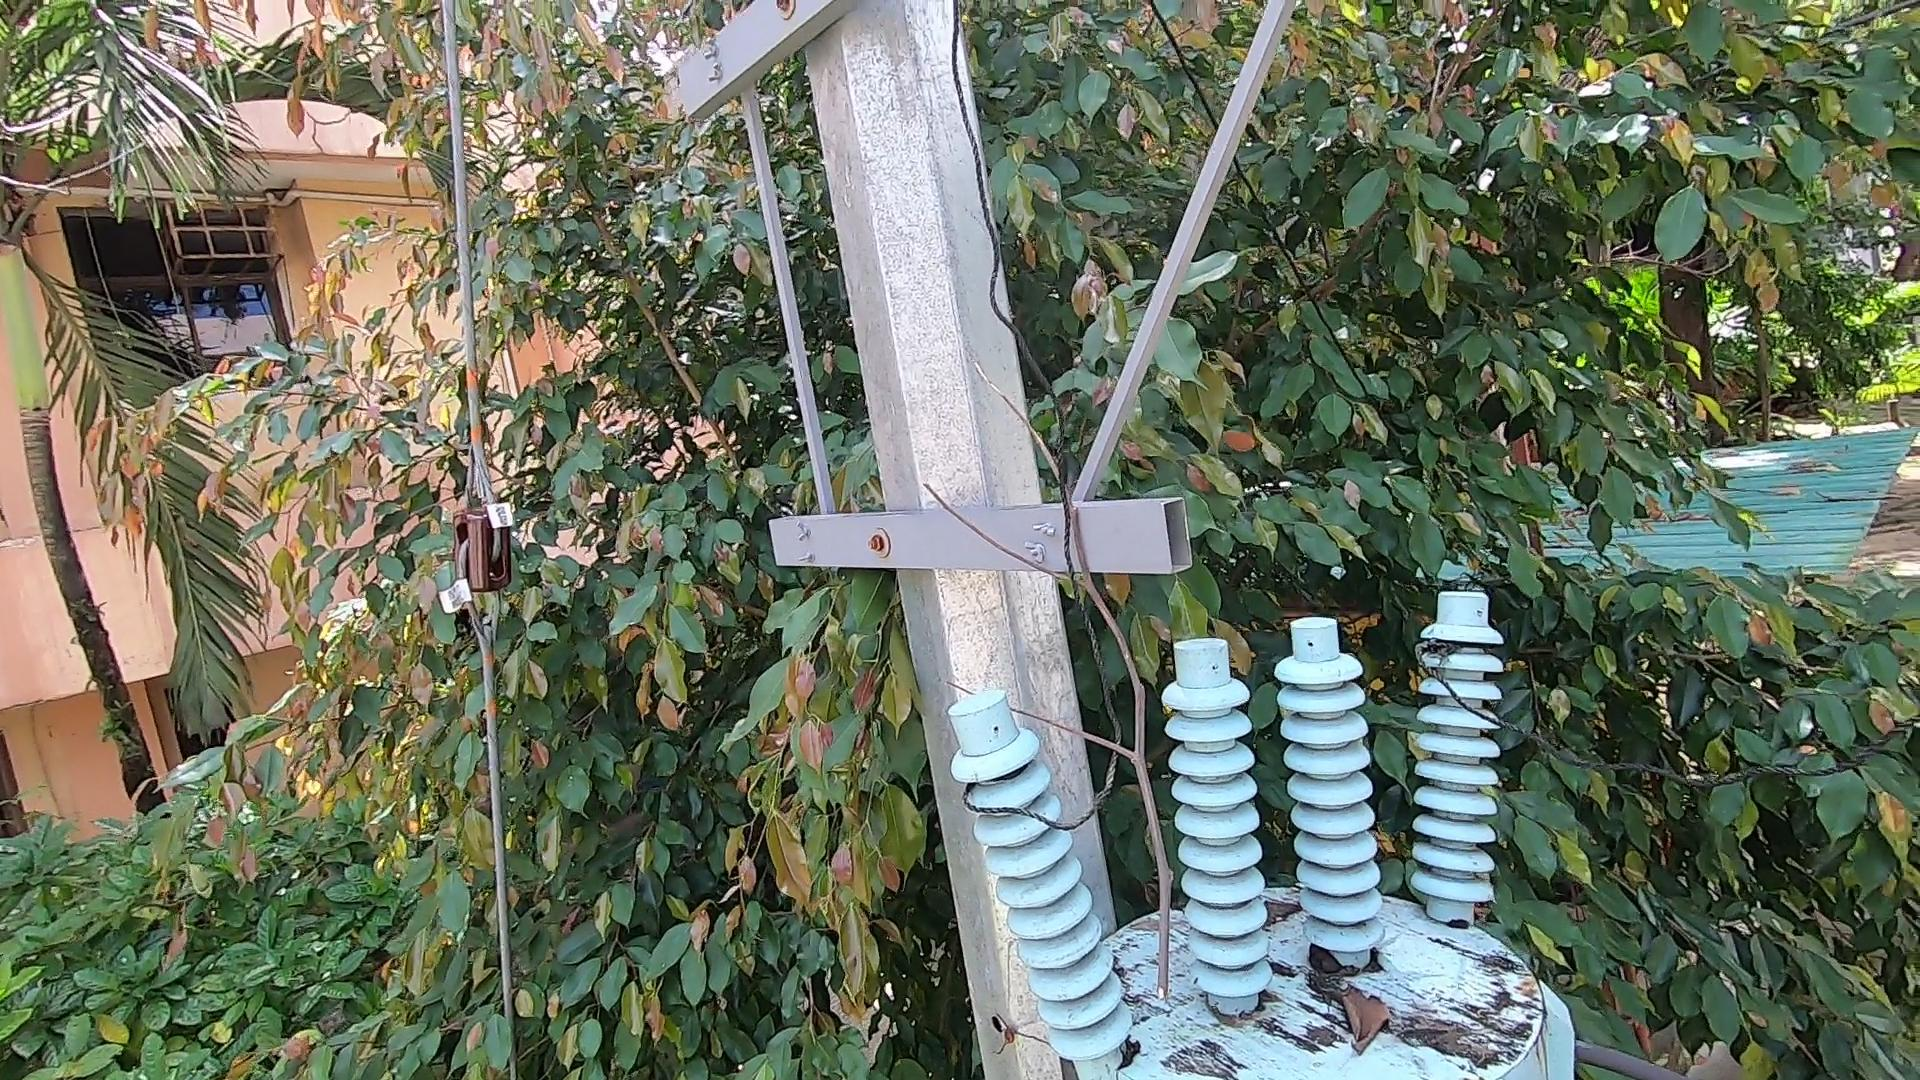leaf: (1315, 984, 1399, 1064), (1299, 935, 1346, 975)
tree branch: (894, 343, 1193, 1000)
